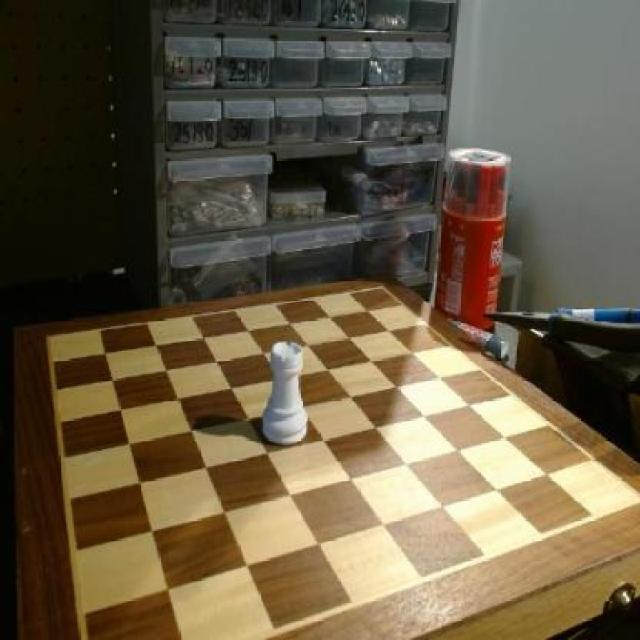white-queen: (258, 336, 310, 448)
